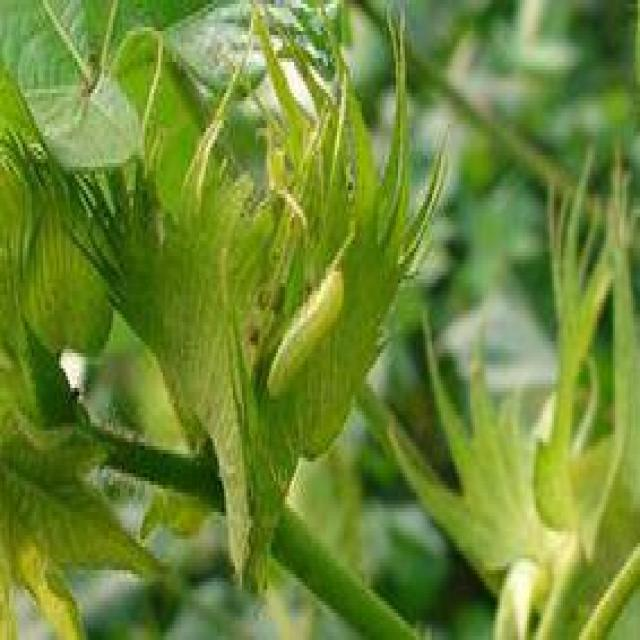BeetArmyWorm-Larva-: (263, 264, 350, 405)
